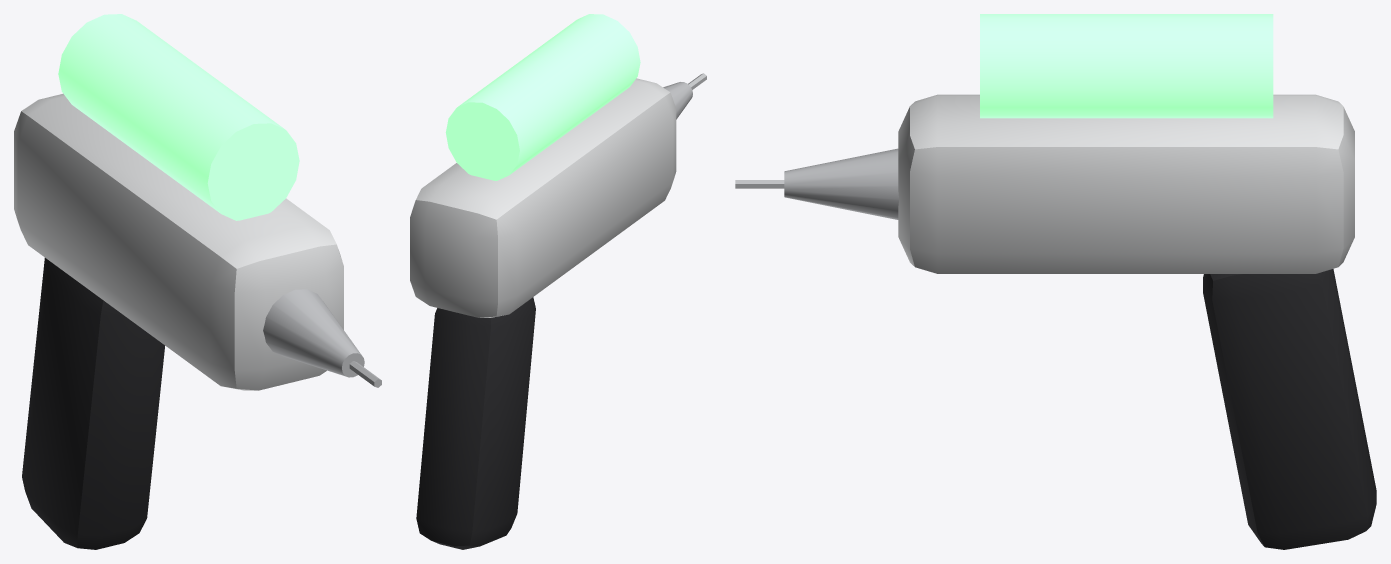
The model's file is injector.glb.
3 views of the same model, side by side, from view 1: azimuth 30°, elevation 25°; view 2: azimuth 150°, elevation 25°; view 3: azimuth 270°, elevation 25° (orthographic). The views are drawn at different scales.
Visible parts, largest first — view 1: injector; view 2: injector; view 3: injector.
Boxes of the visible parts, bbox=[...] form: injector: bbox=[14, 14, 381, 549]; injector: bbox=[410, 14, 706, 549]; injector: bbox=[735, 14, 1376, 549].
Bounding box in the file's own units: 0.045 × 0.177 × 0.1966.
